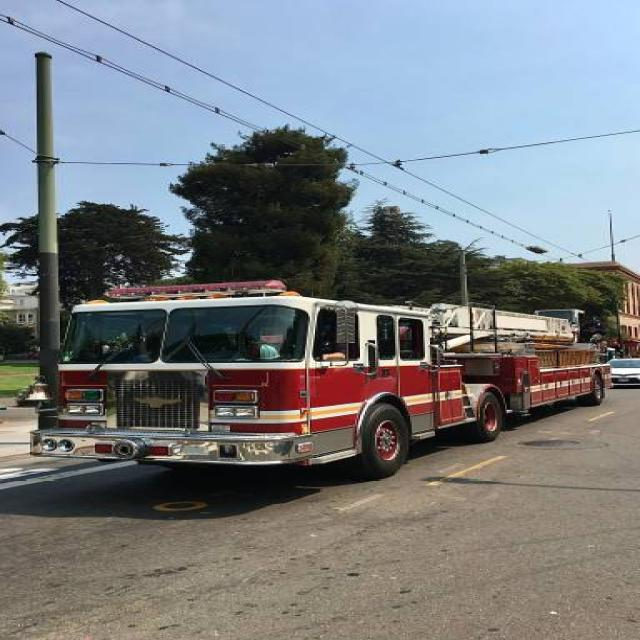emergency: (32, 290, 614, 478)
